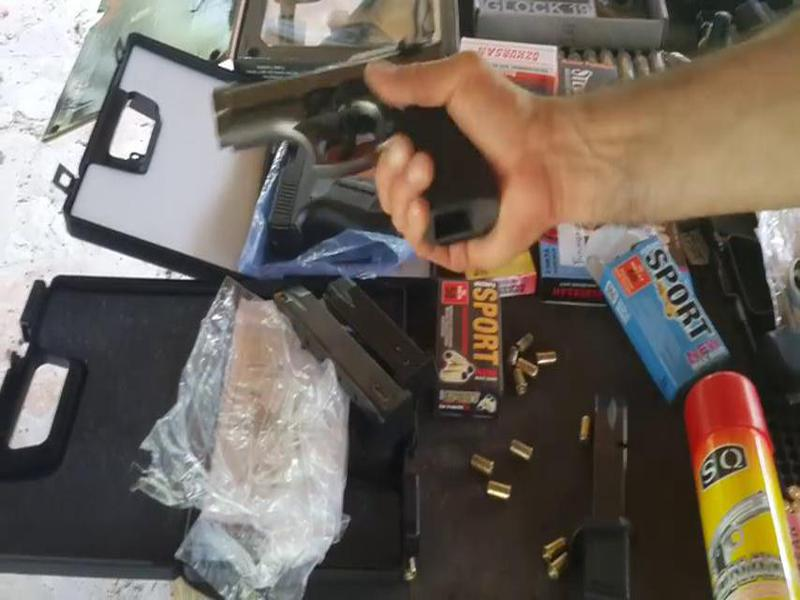Pistola: (219, 47, 537, 236)
